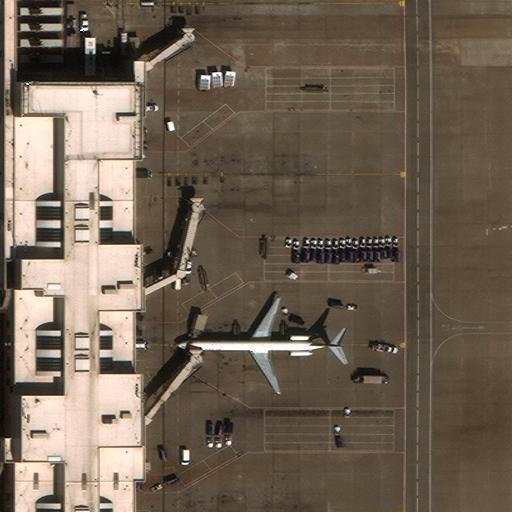Medium Civil Transport: (177, 298, 344, 393)
